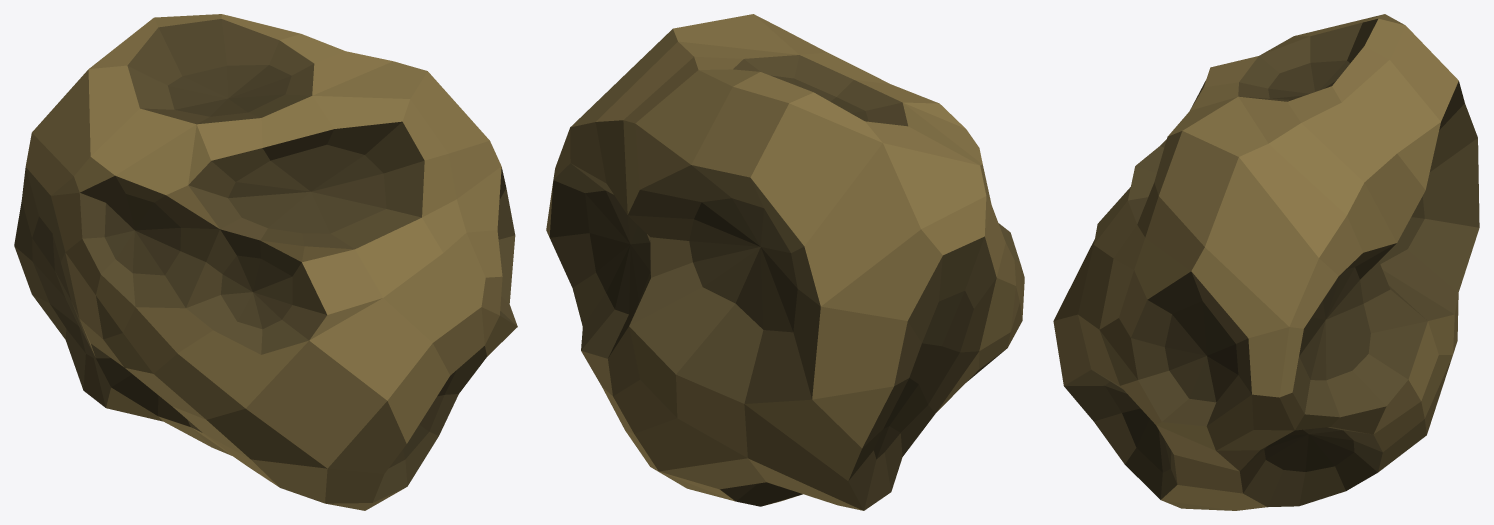
File: Asteroids.fbx
The picture shows the model from 3 angles, left to right: view 1: azimuth 30°, elevation 25°; view 2: azimuth 150°, elevation 25°; view 3: azimuth 270°, elevation 25°; orthographic projection. The views are drawn at different scales.
Parts seen in each view (by area): view 1: Cube; view 2: Cube; view 3: Cube.
Part boxes in pixels (left/top/right/bottom): Cube: left=14, top=14, right=517, bottom=510; Cube: left=546, top=14, right=1024, bottom=510; Cube: left=1053, top=14, right=1479, bottom=510.
Bounding box in the file's own units: 752 × 742 × 650.
